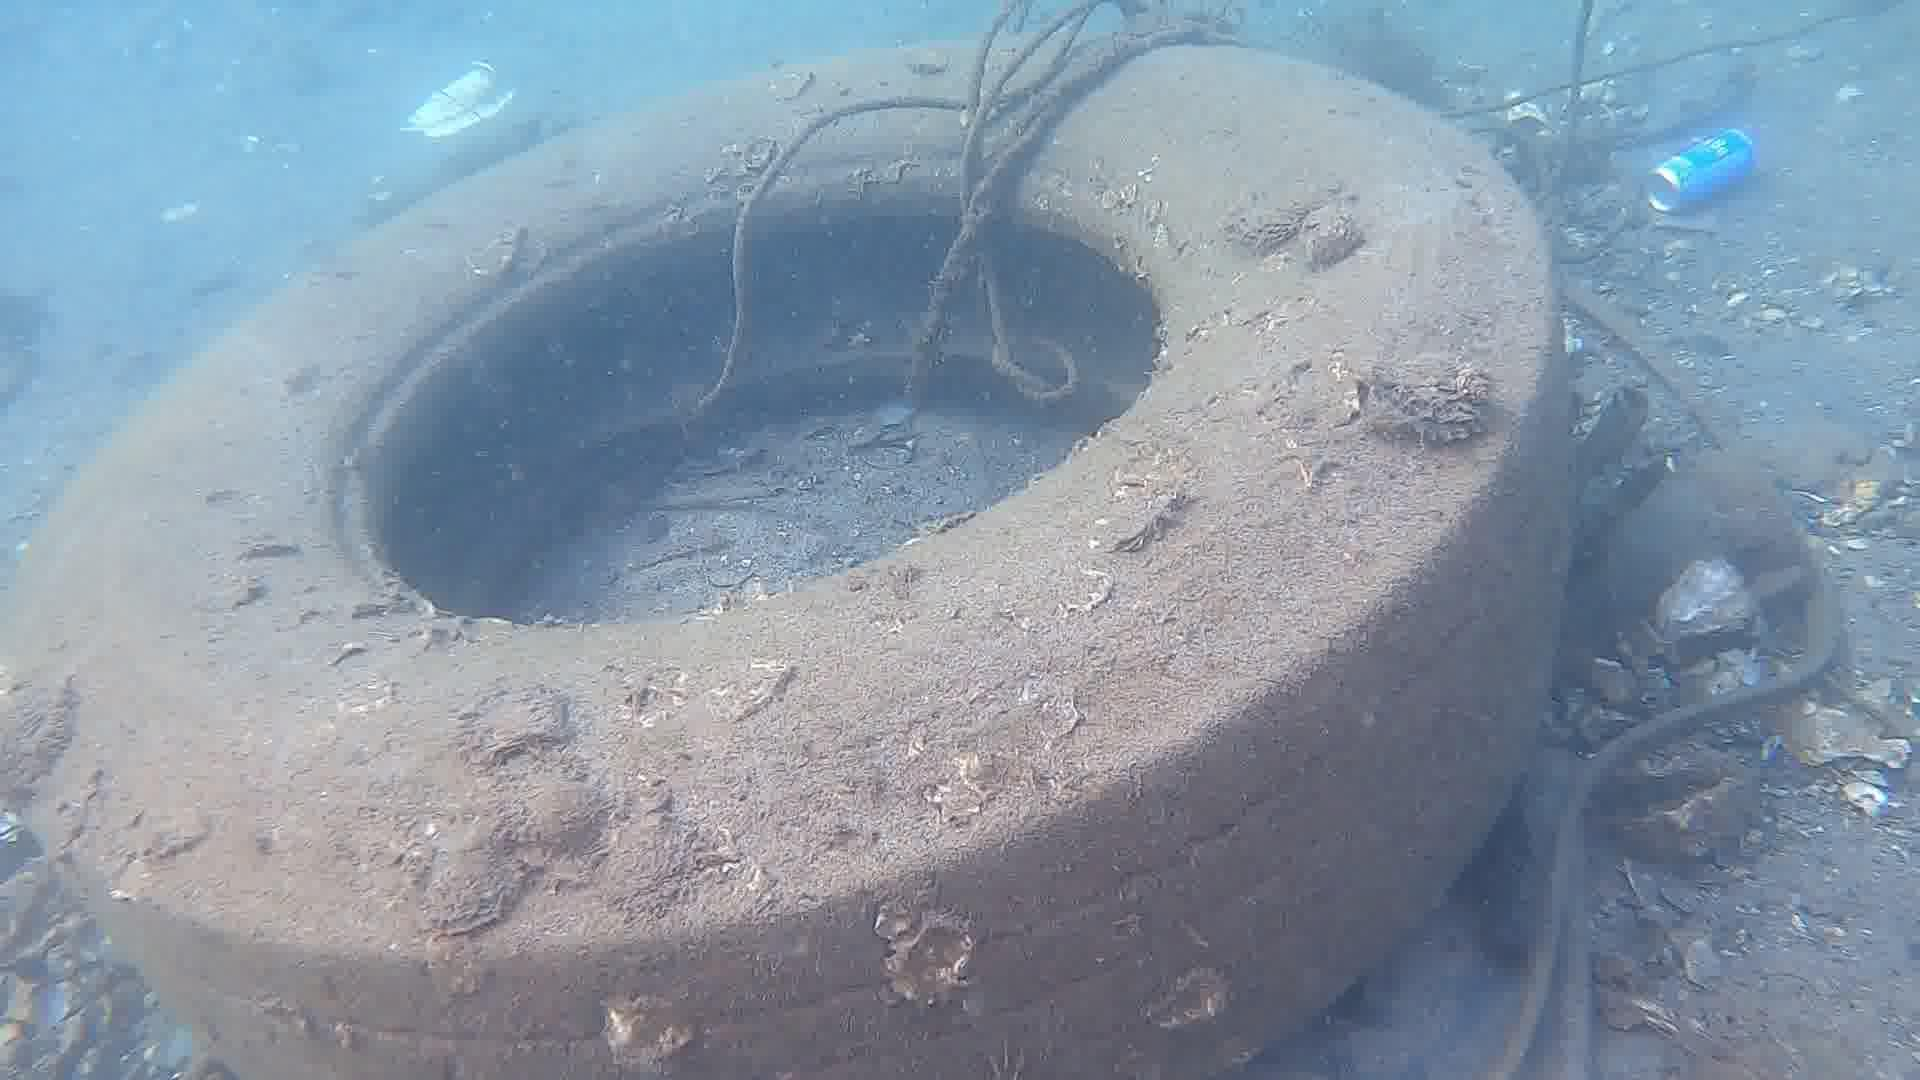bundle of ropes: (700, 0, 1234, 400)
tire: (0, 28, 1571, 1080)
